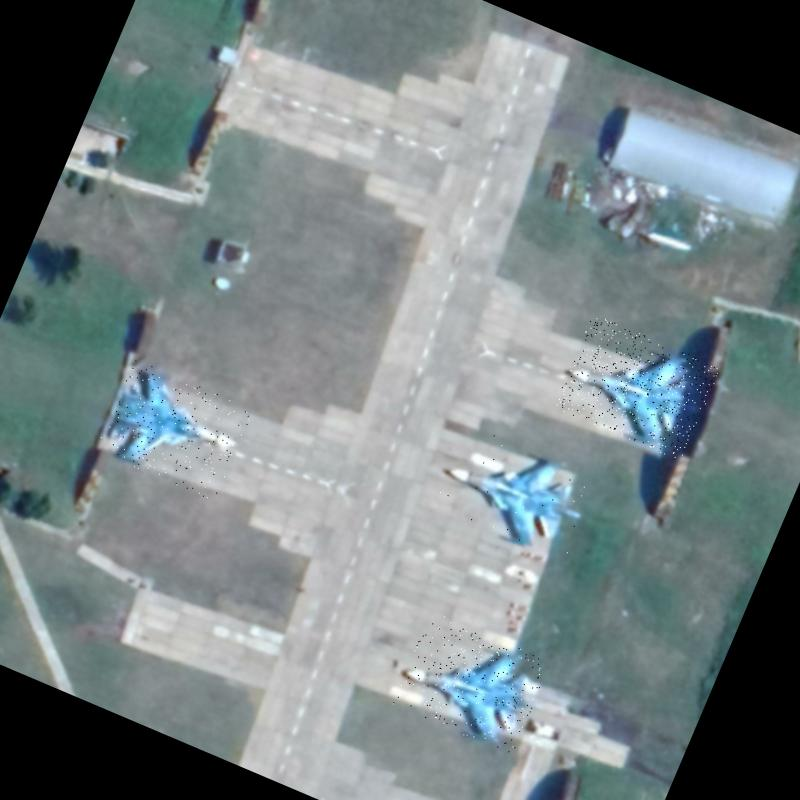A19: (553, 314, 721, 462), (432, 422, 602, 566), (392, 611, 552, 756), (95, 358, 254, 501)
